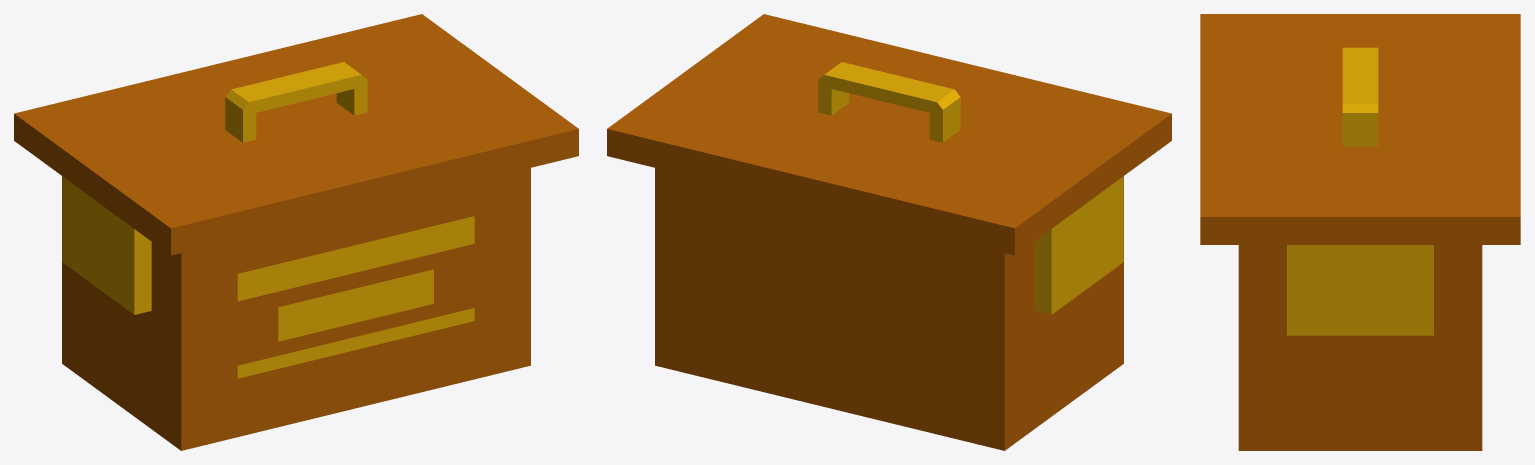
The model's file is AmmoBox.fbx.
The picture shows the model from 3 angles, left to right: view 1: azimuth 30°, elevation 25°; view 2: azimuth 150°, elevation 25°; view 3: azimuth 270°, elevation 25°; orthographic projection. The views are drawn at different scales.
Parts seen in each view (by area): view 1: Cube; view 2: Cube; view 3: Cube.
Part boxes in pixels (x1,y1,x2,y2): Cube: [14, 14, 578, 450]; Cube: [607, 14, 1171, 450]; Cube: [1200, 14, 1520, 450].
Bounding box in the file's own units: 395 × 263 × 261.
